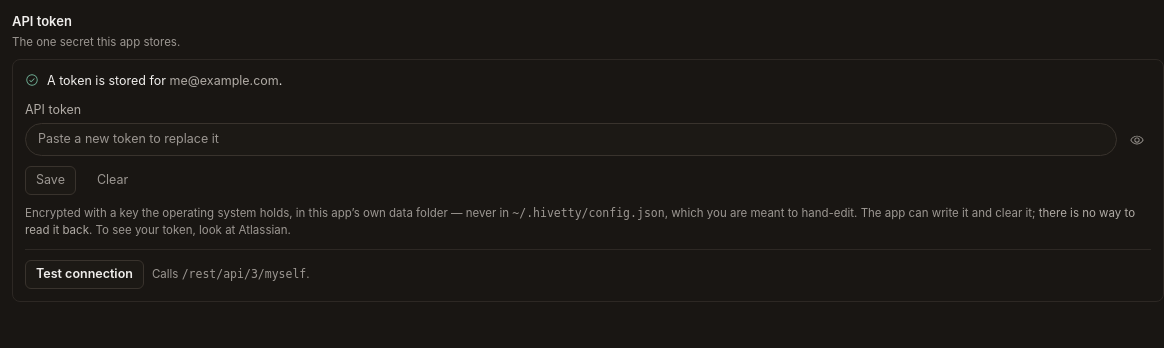
it: testing the connection › distinguishes a broken channel from a Jira refusal
Click the button "Test connection" at (84, 275), box [25,260,144,289]
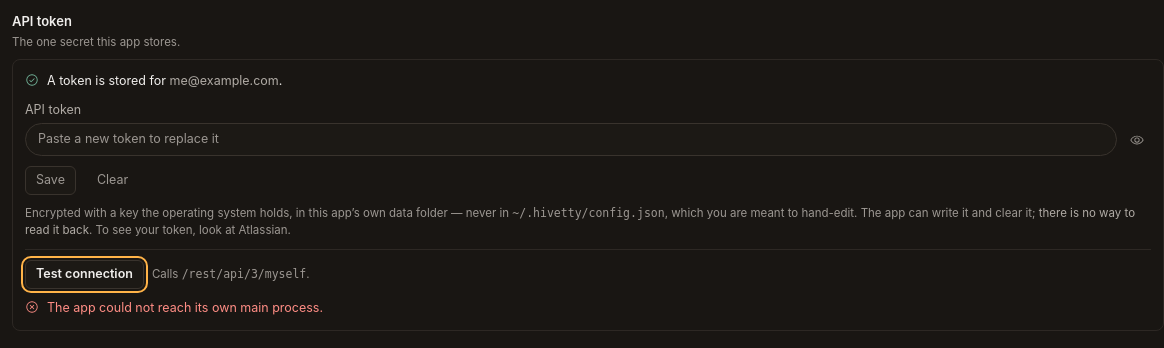
Expected: the text "The app could not reach its own main process." is shown, [47,299,323,318]
